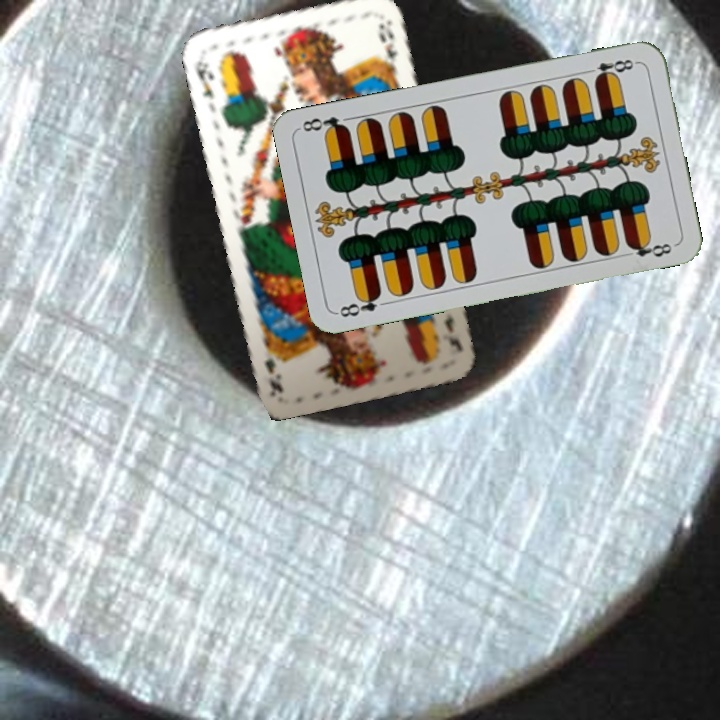E8: (582, 55, 640, 84), (334, 288, 384, 320)
EK: (191, 57, 217, 102), (440, 309, 465, 354)
